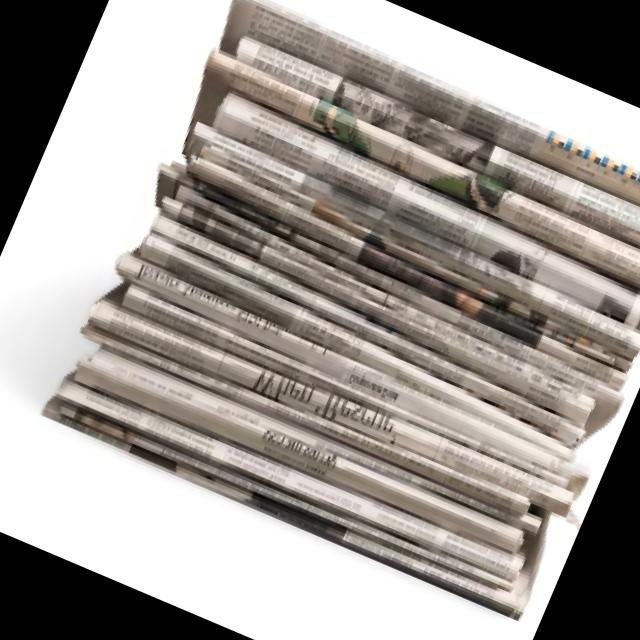Koran: (39, 0, 640, 629)
